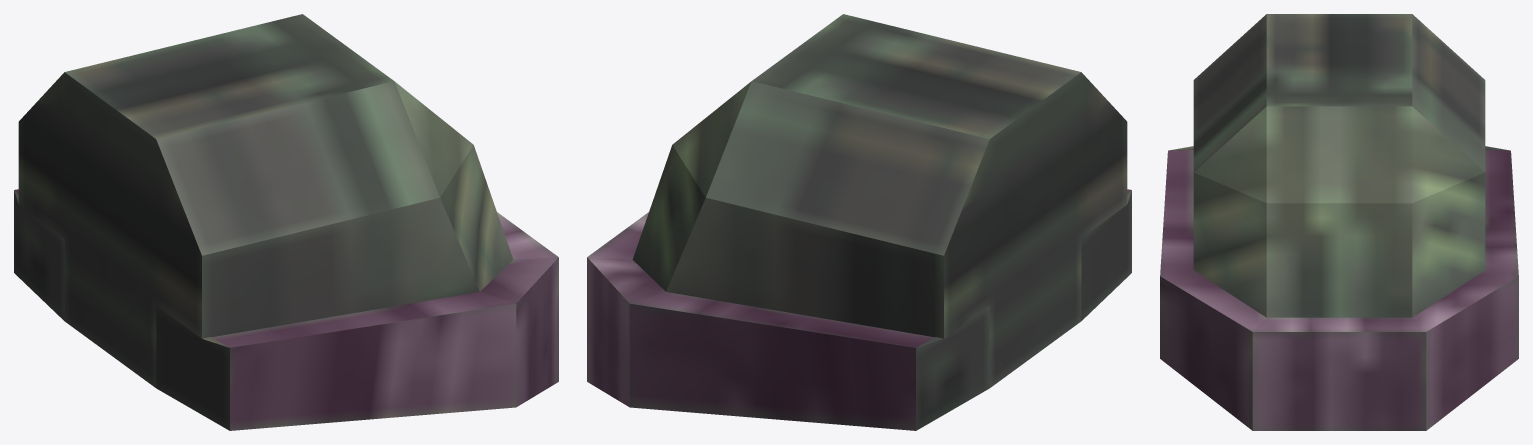
Rendered from enemy_shoulder.obj.
The picture shows the model from 3 angles, left to right: view 1: azimuth 30°, elevation 25°; view 2: azimuth 150°, elevation 25°; view 3: azimuth 270°, elevation 25°; orthographic projection. The views are drawn at different scales.
Parts seen in each view (by area): view 1: beveled_cuboid; view 2: beveled_cuboid; view 3: beveled_cuboid.
Part boxes in pixels (x1,y1,x2,y2): beveled_cuboid: [14, 14, 558, 430]; beveled_cuboid: [587, 14, 1131, 430]; beveled_cuboid: [1160, 14, 1518, 430].
Bounding box in the file's own units: 0.6202 × 0.5 × 0.6155.
Materials: 1 (1 with a texture image).
